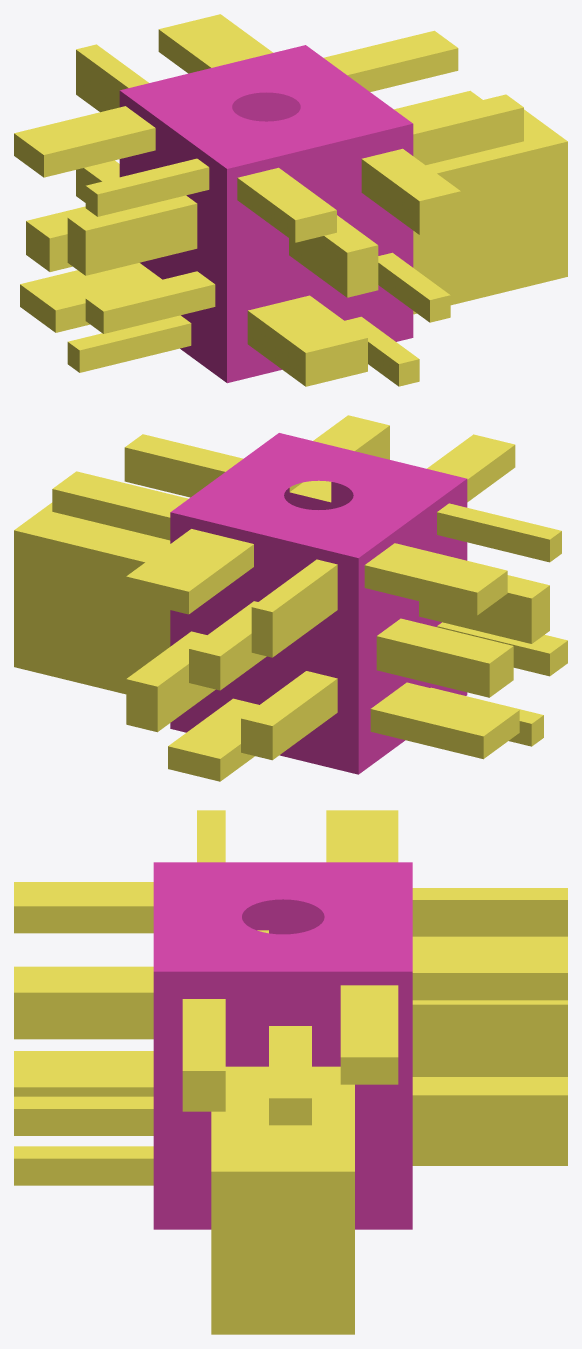
The model's file is cubby-room-with-exit.fbx.
3 views of the same model, one above another, from view 1: azimuth 30°, elevation 25°; view 2: azimuth 150°, elevation 25°; view 3: azimuth 270°, elevation 25° (orthographic). The views are drawn at different scales.
Parts seen in each view (by area): view 1: Cubby_Room_V2; view 2: Cubby_Room_V2; view 3: Cubby_Room_V2.
Part boxes in pixels (x1,y1,x2,y2): Cubby_Room_V2: (14,14,567,386); Cubby_Room_V2: (14,415,567,781); Cubby_Room_V2: (14,810,567,1334).
Size of the model in its own units: 1280 by 550 by 1070.
